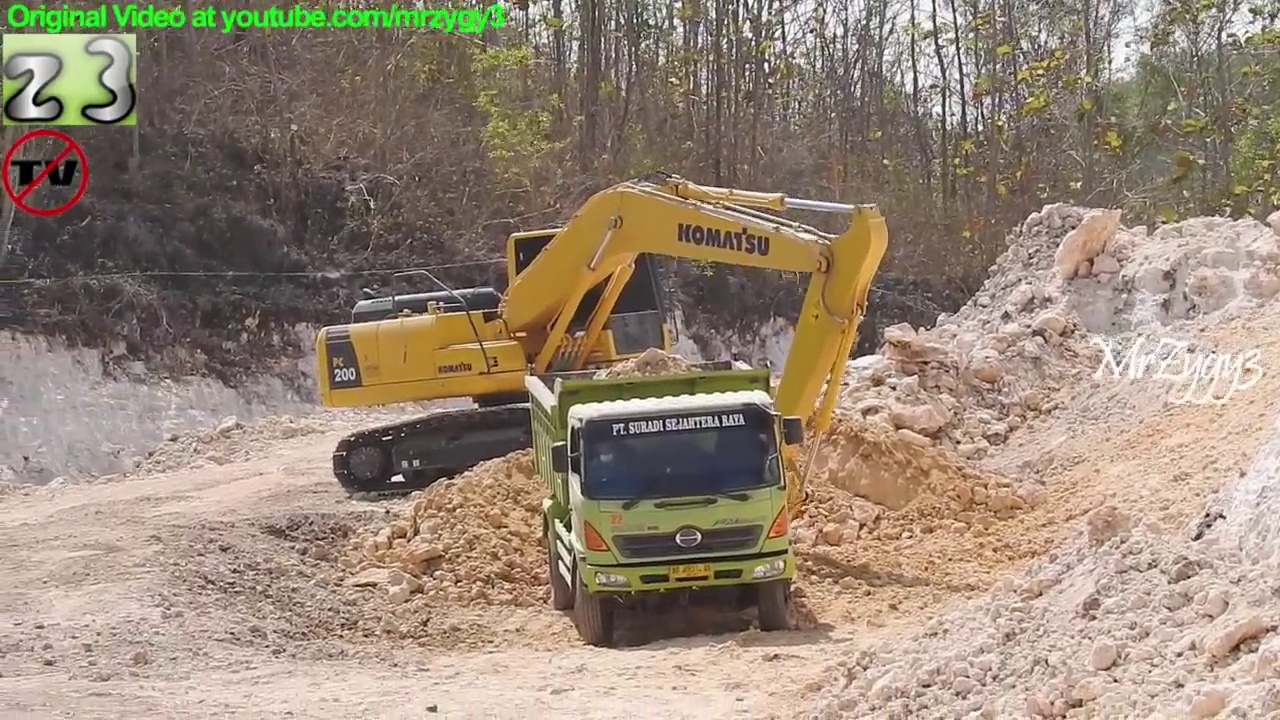excavator: (305, 169, 896, 561)
truck: (516, 347, 815, 654)
